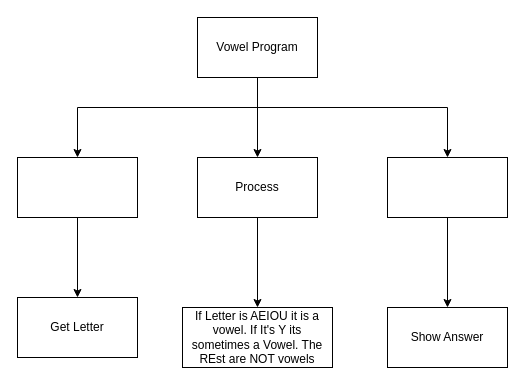
Image size: 525x385. Some labels were removed from this diagram. The centre of each missing label's shape, as x and y in pixels:
"Input" goes at [77,187].
"Output" goes at [447,187].
